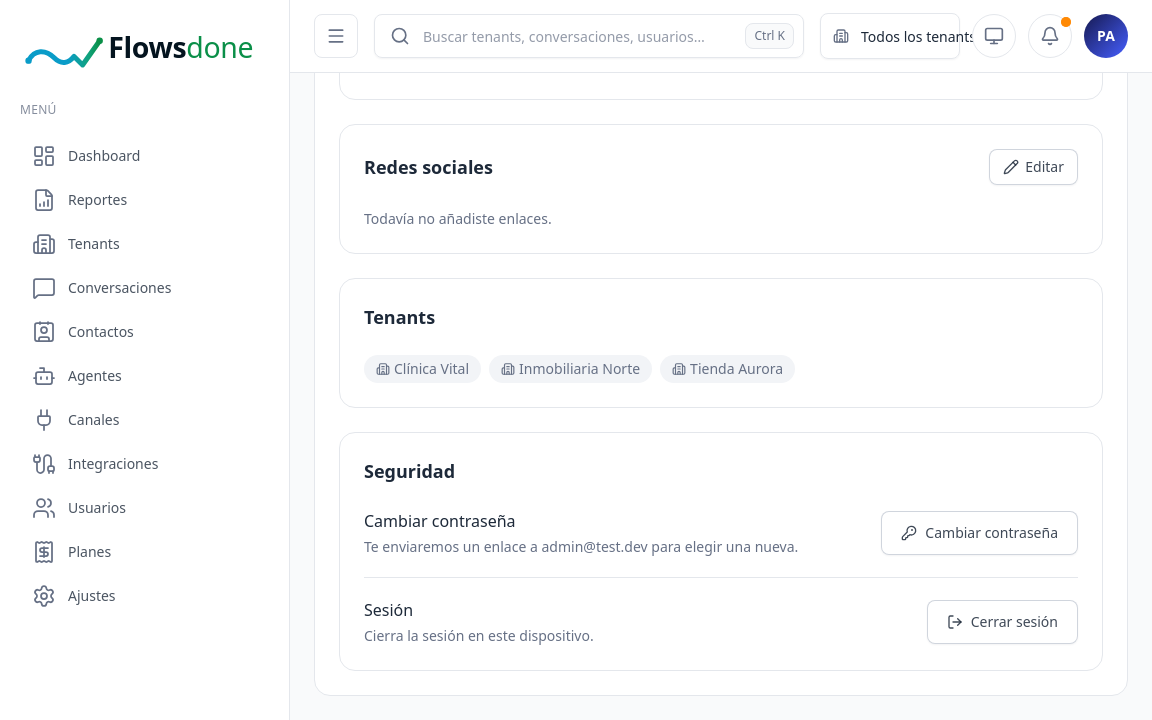
Test: ProfilePage › "Cambiar contraseña" envía el enlace al propio email y lo confirma
This screenshot has width=1152, height=720.
(page scrolled)
Click the button "Cambiar contraseña" at (980, 533), box [881, 511, 1078, 555]
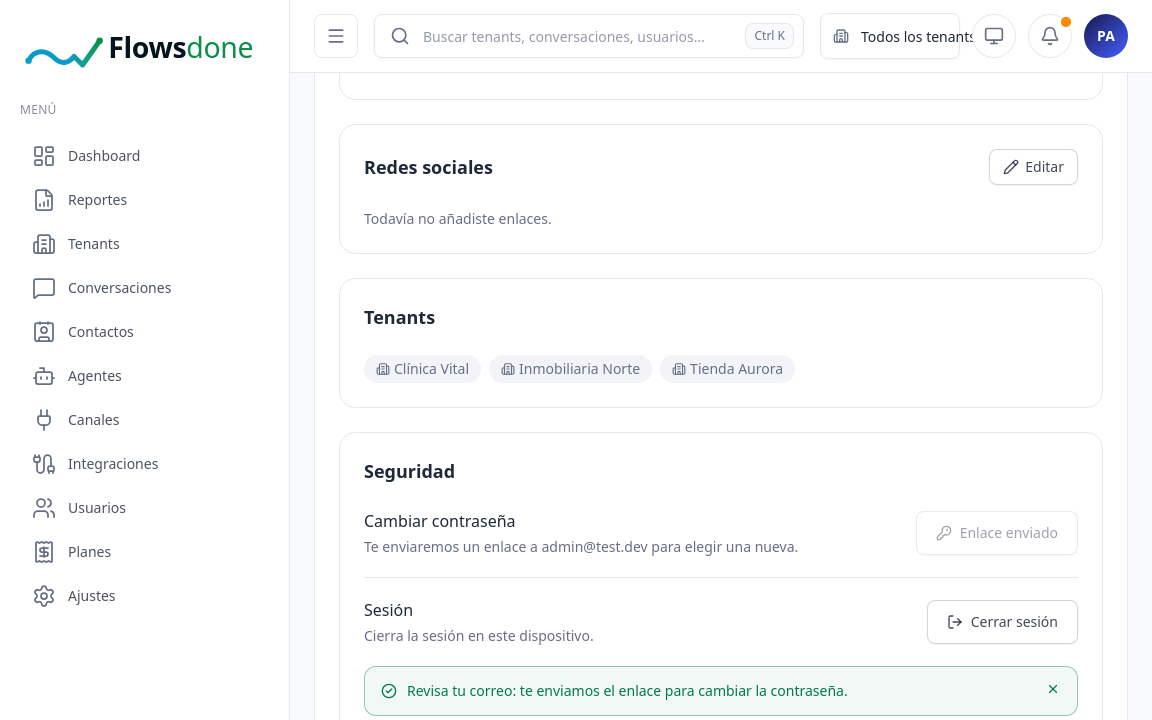
Expected: the text "Revisa tu correo" is shown, [407, 681, 848, 700]
Expected: the button "Enlace enviado" is disabled, [916, 511, 1078, 555]
